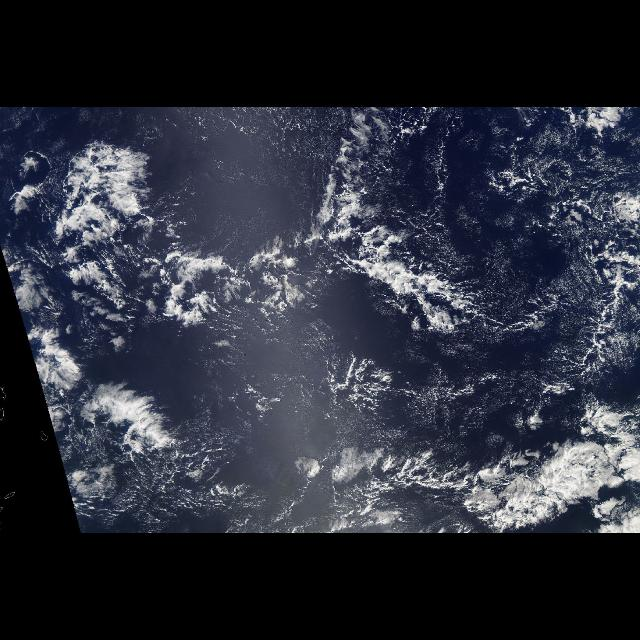Fish: (37, 111, 477, 329), (319, 414, 635, 526), (559, 227, 639, 396)
Sugar: (192, 111, 636, 446)
